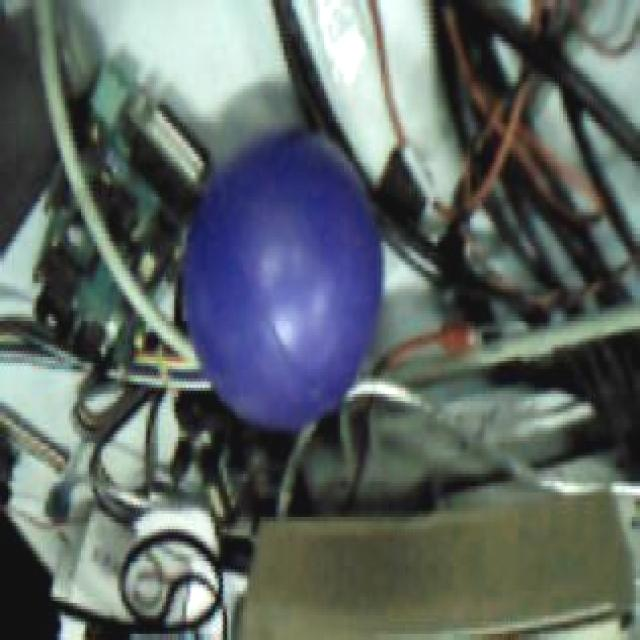BallPurple: (182, 125, 384, 432)
